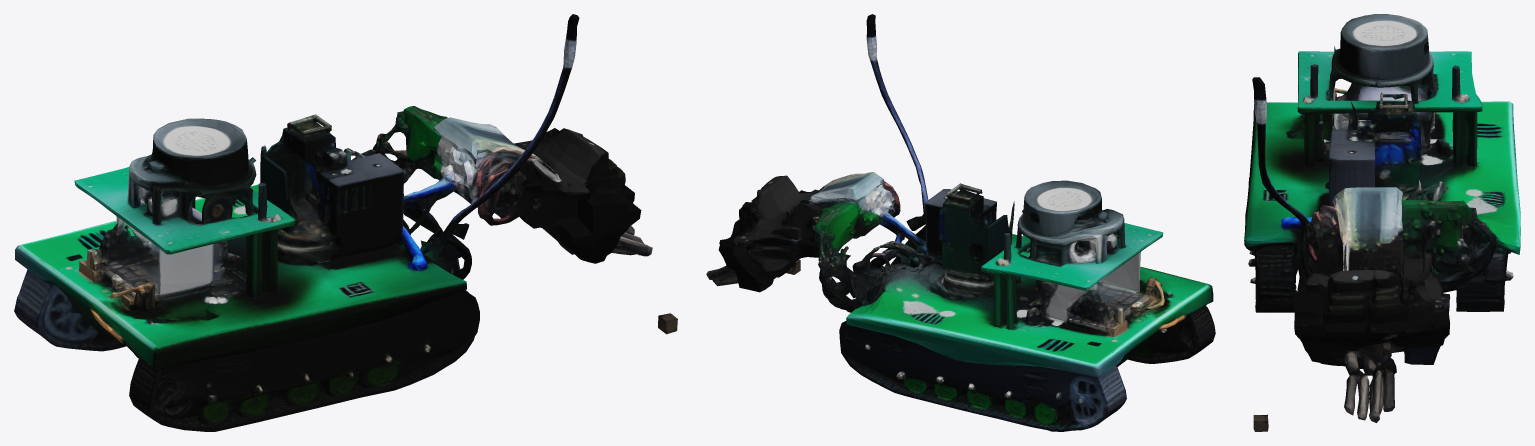
Rendered from Ecosistemas.glb.
3 views of the same model, side by side, from view 1: azimuth 30°, elevation 25°; view 2: azimuth 150°, elevation 25°; view 3: azimuth 270°, elevation 25° (orthographic). The views are drawn at different scales.
Parts seen in each view (by area): view 1: world; view 2: world; view 3: world.
Boxes of the visible parts, x1,y1,x2,y2 form: world: (14,14,677,431); world: (706,14,1215,431); world: (1244,14,1520,431).
Size of the model in its own units: 0.9946 by 0.5776 by 0.4678.
Materials: 1 (1 with a texture image).
